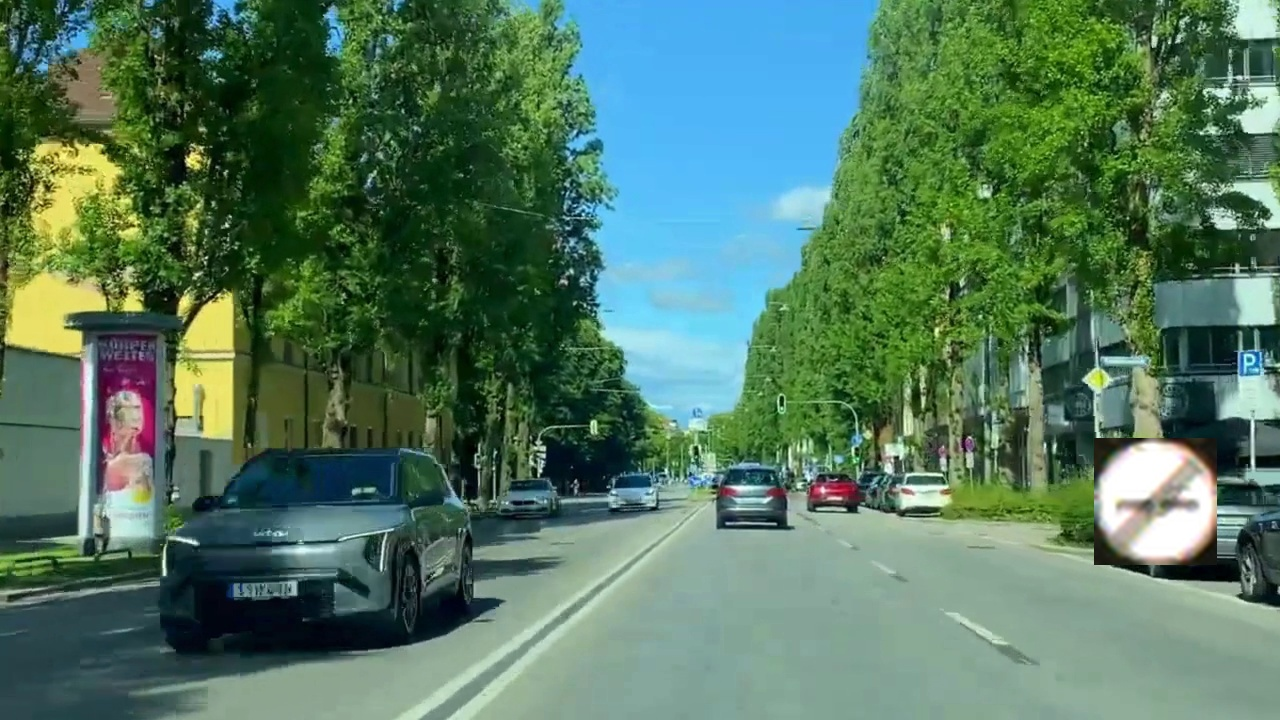End no pass: (1094, 438, 1217, 565)
